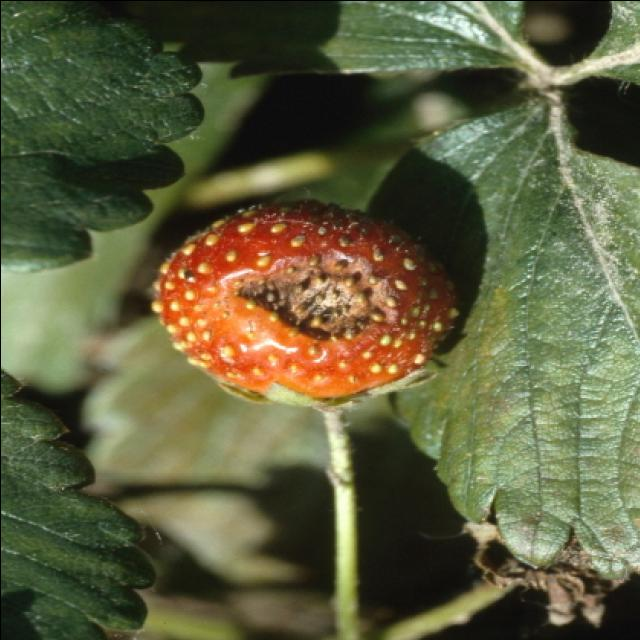Anthracnose Fruit Rot: (253, 266, 370, 340)
